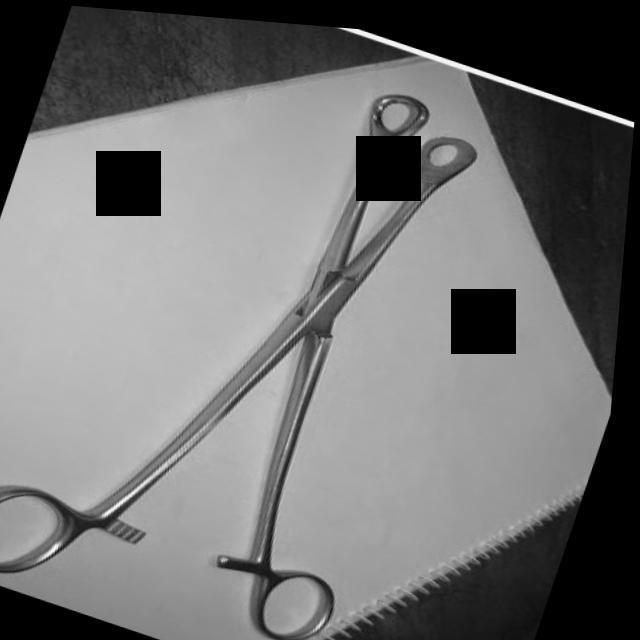Sponge Holding Forceps: (0, 0, 507, 640)
